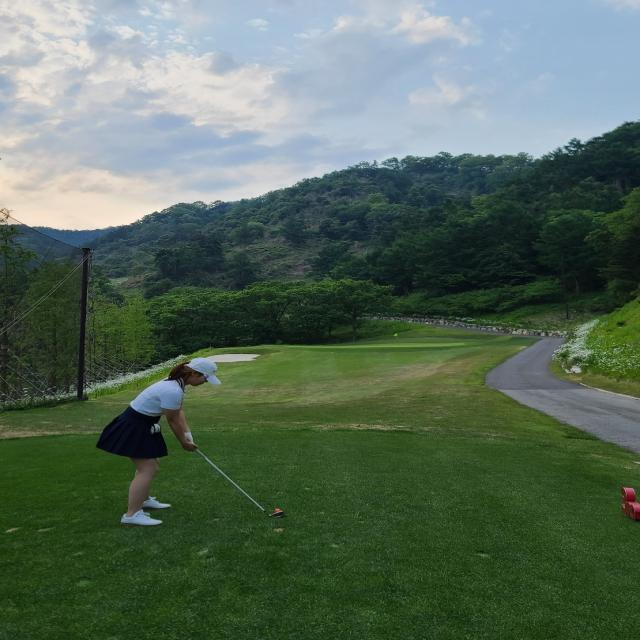shortsleeve: (130, 375, 186, 418)
skirt: (96, 404, 166, 460)
